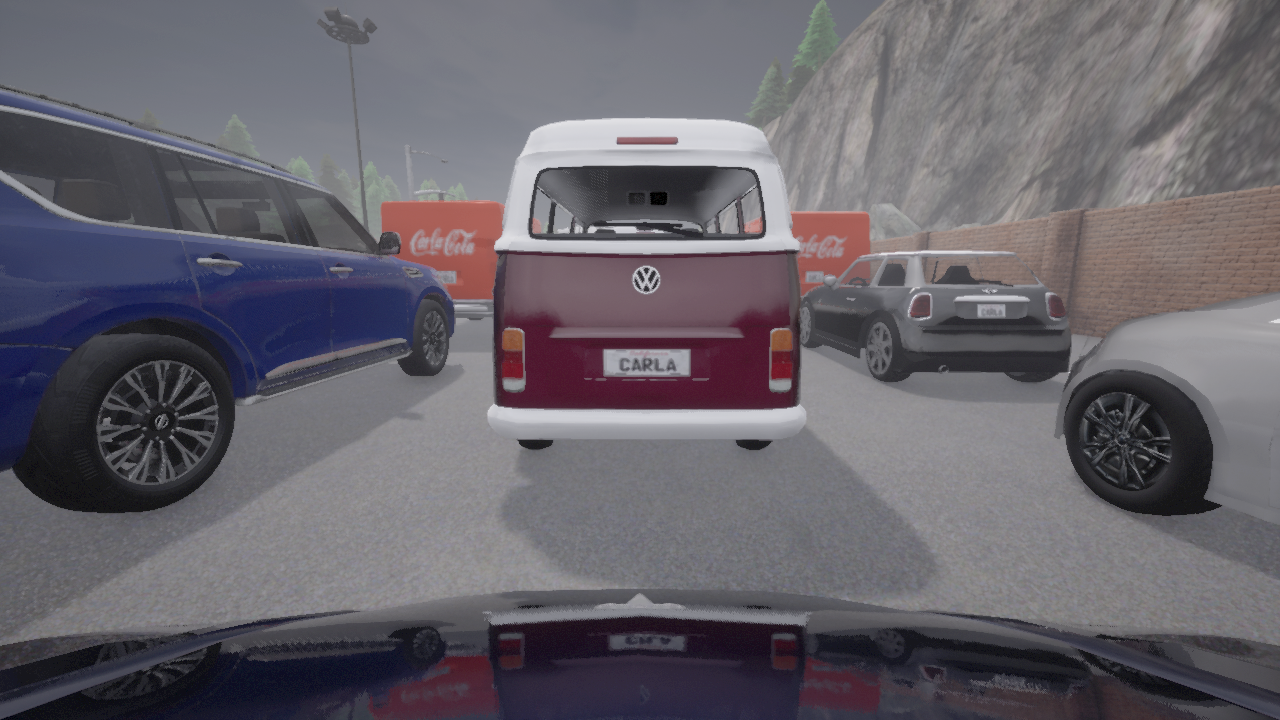cyclist: (0, 588, 1279, 719), (487, 118, 806, 449), (1053, 291, 1279, 524), (801, 250, 1070, 382), (381, 201, 505, 319), (790, 212, 869, 298)
